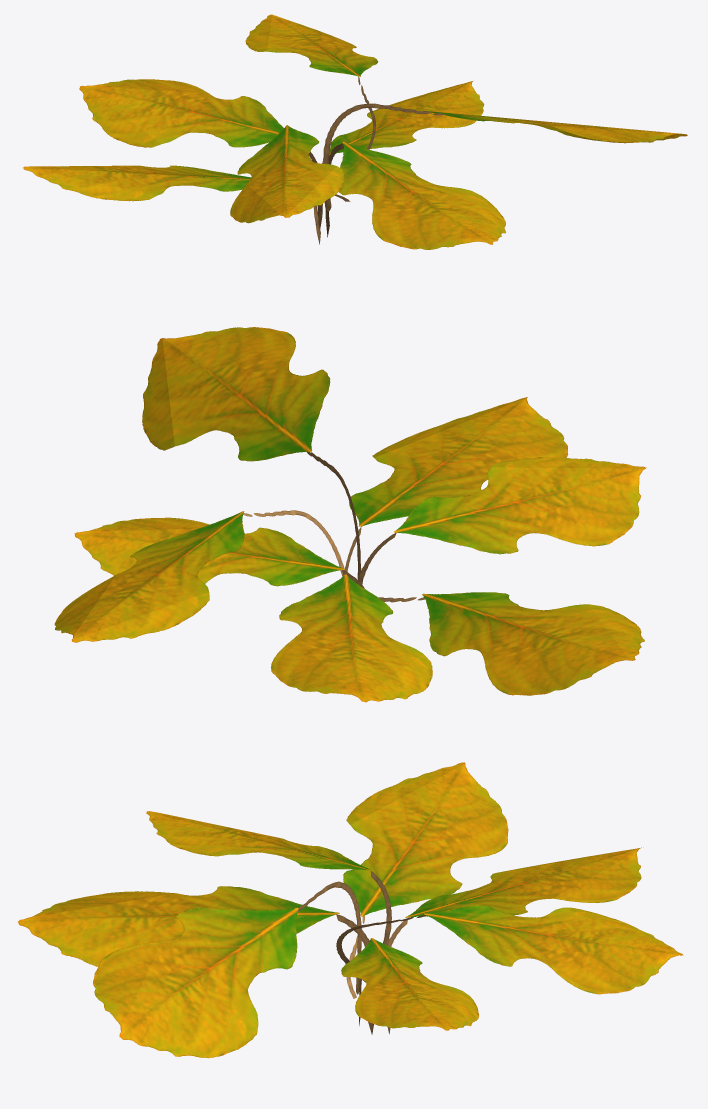
The model's file is Row Root A5.fbx.
3 renders of one model, top to bottom at view 1: azimuth 30°, elevation 25°; view 2: azimuth 150°, elevation 25°; view 3: azimuth 270°, elevation 25°, orthographic. The views are drawn at different scales.
Visible parts, largest first — view 1: Row Root A5; view 2: Row Root A5; view 3: Row Root A5.
Boxes of the visible parts, x1,y1,x2,y2 form: Row Root A5: (23, 14, 687, 249); Row Root A5: (54, 327, 646, 702); Row Root A5: (17, 762, 683, 1058).
Bounding box in the file's own units: 206 × 59.62 × 186.
